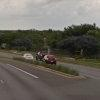Car: (33, 48, 61, 68)
